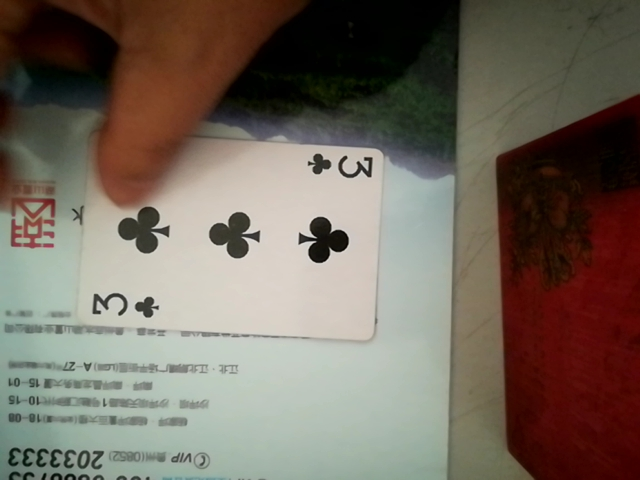mh 3: (86, 131, 392, 345)
